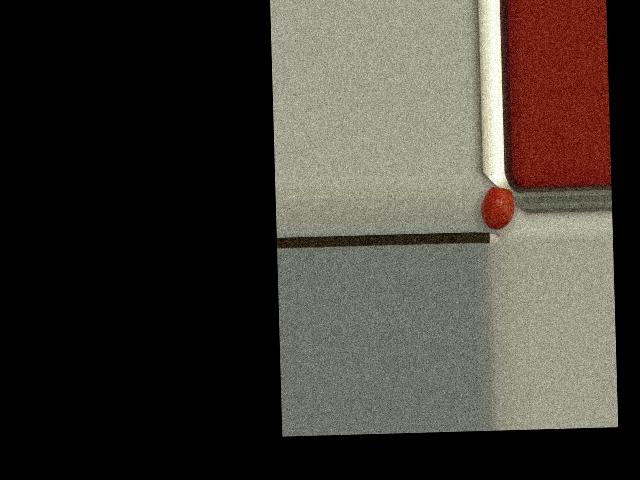tomato: (480, 186, 515, 229)
